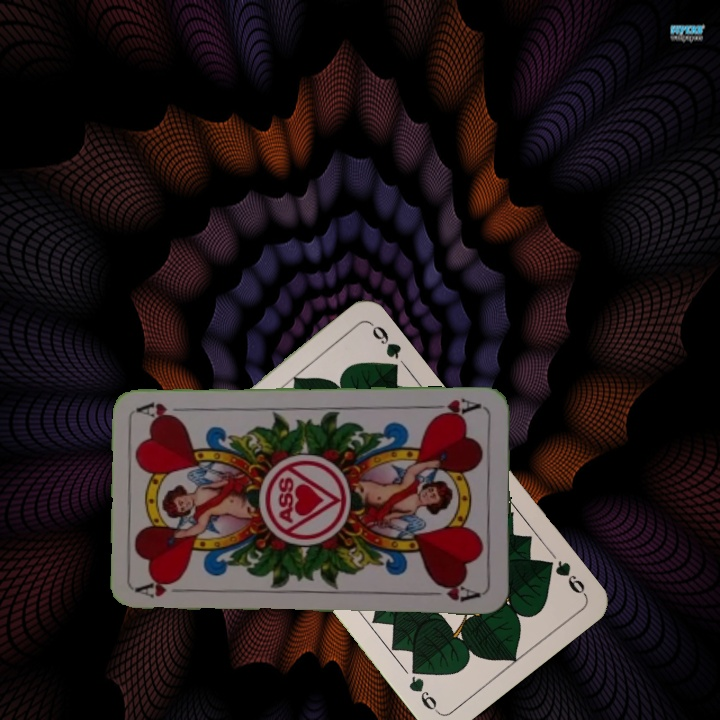G9: (538, 555, 589, 598)
HA: (426, 394, 485, 421), (135, 577, 194, 600)
